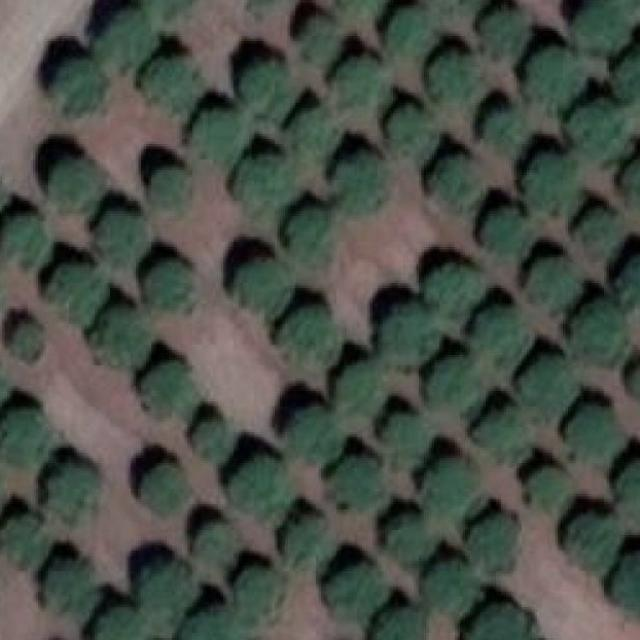Tree: (88, 306, 154, 376), (184, 105, 244, 165), (0, 407, 57, 468), (563, 404, 619, 466), (321, 564, 383, 618), (378, 309, 434, 368), (40, 157, 100, 212), (232, 563, 286, 622), (529, 152, 578, 217), (280, 201, 336, 257), (329, 154, 386, 209), (237, 456, 288, 517), (465, 515, 520, 571), (239, 154, 293, 211), (229, 257, 288, 309), (48, 558, 100, 617), (144, 57, 199, 111), (522, 257, 576, 312), (52, 60, 105, 116), (331, 57, 391, 106), (136, 566, 190, 620), (51, 260, 98, 322), (527, 49, 578, 106), (520, 358, 571, 415), (570, 301, 619, 360), (93, 209, 144, 265), (573, 101, 625, 155), (566, 514, 620, 566), (568, 0, 626, 48), (431, 49, 481, 104), (43, 463, 93, 518), (239, 62, 288, 118), (424, 262, 475, 314), (424, 561, 473, 615), (100, 5, 144, 65), (0, 210, 48, 265), (283, 309, 334, 360), (478, 408, 530, 458), (434, 358, 481, 413), (473, 306, 525, 355), (290, 408, 340, 458), (146, 259, 196, 309), (138, 461, 187, 512), (285, 108, 334, 157), (336, 456, 383, 507), (429, 157, 475, 209), (339, 362, 386, 412), (424, 461, 470, 512), (2, 514, 46, 566), (285, 514, 326, 569), (385, 108, 434, 154), (467, 604, 527, 640), (484, 206, 530, 252), (378, 415, 424, 461), (150, 362, 190, 412), (298, 20, 342, 64), (386, 8, 427, 55), (196, 520, 237, 564), (362, 609, 419, 640), (482, 111, 522, 155), (393, 518, 432, 562), (184, 609, 239, 640), (611, 556, 640, 614), (481, 8, 522, 49), (525, 468, 566, 509), (611, 460, 640, 516), (152, 164, 190, 206), (573, 208, 612, 247), (95, 609, 143, 640), (192, 417, 228, 458), (619, 46, 640, 113), (144, 0, 196, 21), (619, 157, 640, 209), (10, 327, 41, 361), (621, 254, 640, 301), (334, 0, 385, 10), (429, 0, 480, 10), (629, 365, 640, 396), (0, 363, 5, 415)
